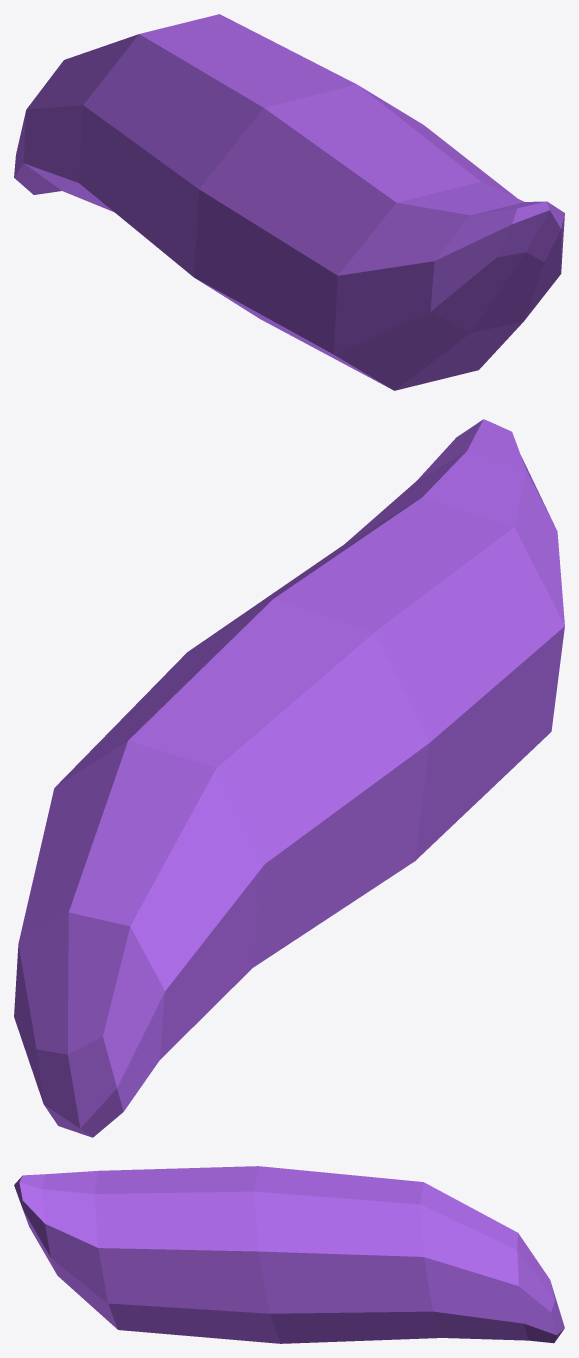
File: ToothPaste Gel.fbx
The picture shows the model from 3 angles, top to bottom: view 1: azimuth 30°, elevation 25°; view 2: azimuth 150°, elevation 25°; view 3: azimuth 270°, elevation 25°; orthographic projection. The views are drawn at different scales.
Parts seen in each view (by area): view 1: ToothPaste Gel; view 2: ToothPaste Gel; view 3: ToothPaste Gel.
Boxes of the visible parts, x1,y1,x2,y2 form: ToothPaste Gel: (14, 14, 564, 390); ToothPaste Gel: (14, 419, 564, 1137); ToothPaste Gel: (14, 1166, 564, 1343).
Bounding box in the file's own units: 1.75 × 2.15 × 5.99.
